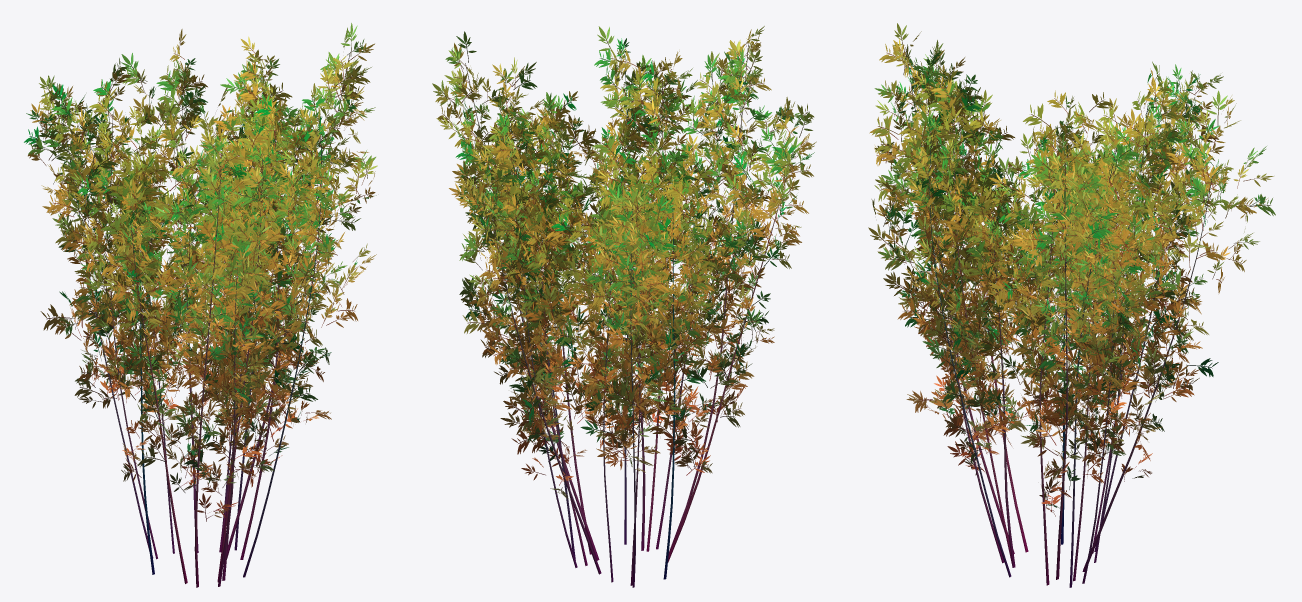
The model's file is asset.glb.
The picture shows the model from 3 angles, left to right: view 1: azimuth 30°, elevation 25°; view 2: azimuth 150°, elevation 25°; view 3: azimuth 270°, elevation 25°; orthographic projection. The views are drawn at different scales.
Parts seen in each view (by area): view 1: mountain_willow_LOD0; view 2: mountain_willow_LOD0; view 3: mountain_willow_LOD0.
Part boxes in pixels (bbox=[...]): mountain_willow_LOD0: bbox=[24, 23, 377, 587]; mountain_willow_LOD0: bbox=[432, 26, 816, 587]; mountain_willow_LOD0: bbox=[868, 23, 1275, 587].
Size of the model in its own units: 2.96 by 4.18 by 3.14.
2 materials, 2 textured.
